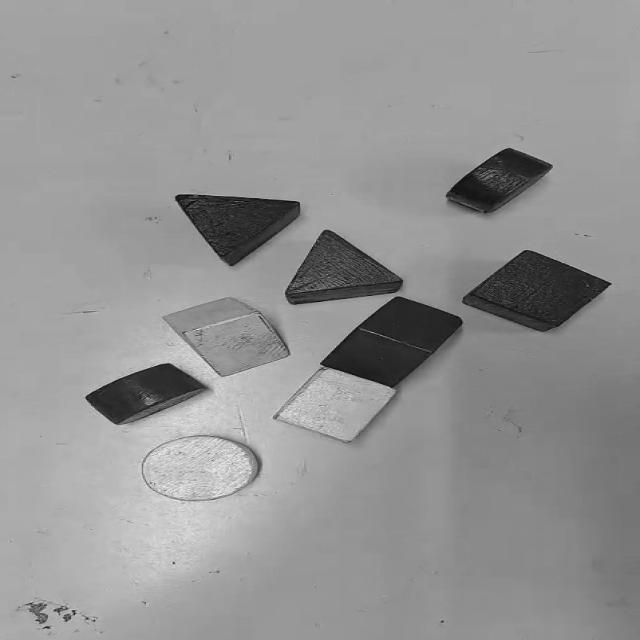bcircle: (445, 148, 551, 215)
bcube: (461, 249, 611, 332)
btriangle: (176, 194, 299, 266)
rcircle: (84, 362, 208, 427)
rcube: (322, 298, 462, 386)
rtriangle: (287, 230, 405, 304)
ycircle: (140, 434, 260, 502)
ycube: (273, 367, 397, 442)
ytriangle: (162, 298, 288, 376)
